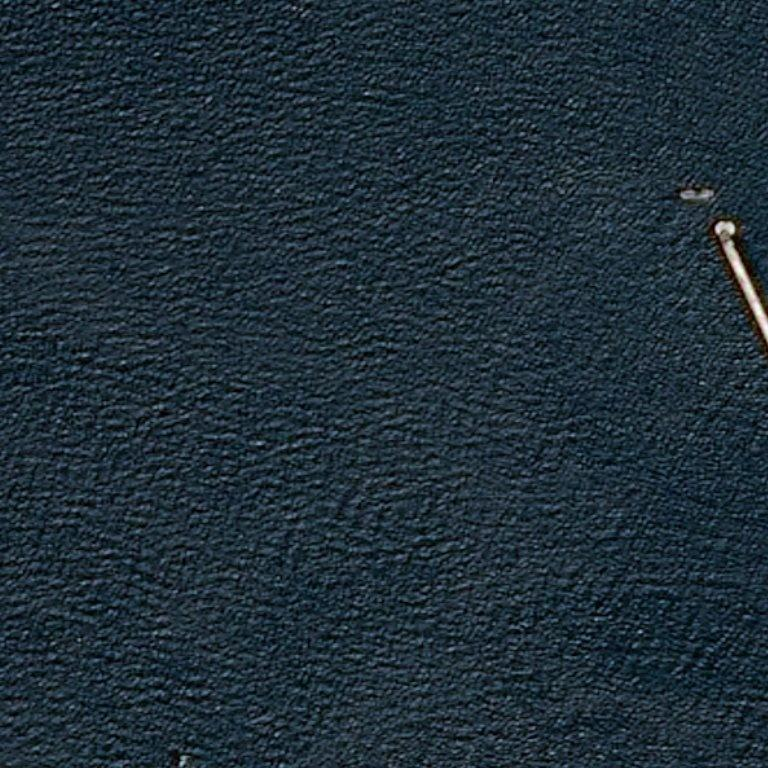ship: (680, 151, 714, 162), (179, 755, 189, 768)
